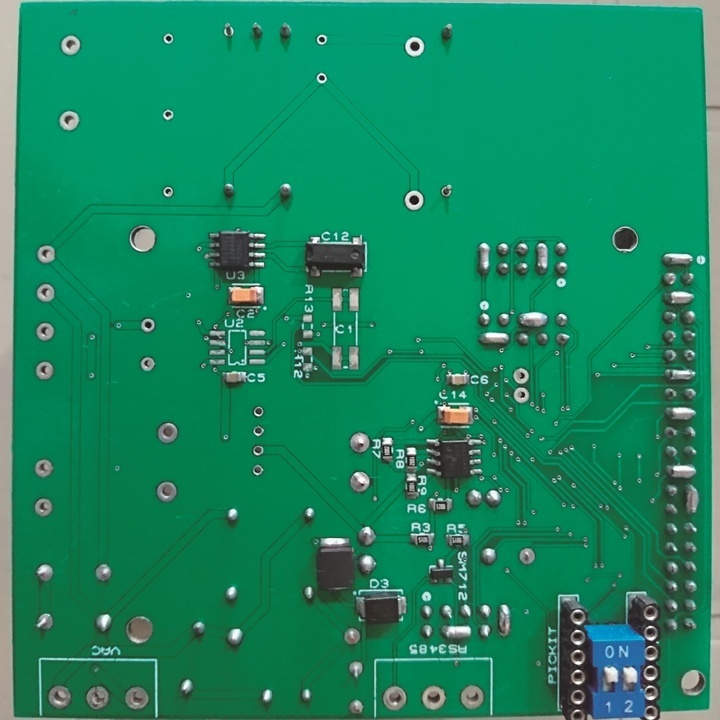F: (121, 682, 152, 714), (458, 682, 487, 713), (381, 682, 409, 713), (420, 684, 449, 713), (45, 682, 73, 711), (84, 683, 112, 710), (30, 610, 57, 637), (401, 187, 427, 213), (152, 478, 179, 503), (155, 419, 180, 445), (347, 429, 372, 455), (348, 468, 371, 495), (57, 107, 81, 132), (33, 240, 57, 265), (34, 280, 58, 305), (403, 34, 427, 58), (33, 319, 58, 342), (32, 456, 57, 479), (33, 561, 56, 585), (58, 34, 82, 56), (33, 357, 54, 381), (342, 625, 363, 649), (517, 544, 538, 568), (32, 496, 55, 517), (138, 352, 158, 374), (92, 561, 113, 581), (346, 658, 365, 680), (512, 364, 530, 386), (437, 179, 455, 199), (348, 697, 366, 717), (220, 19, 236, 41), (511, 386, 530, 404), (250, 402, 267, 420), (139, 317, 156, 334), (161, 183, 176, 201), (251, 422, 266, 440), (251, 441, 265, 460), (251, 462, 267, 478), (315, 31, 329, 49), (161, 32, 176, 46), (161, 107, 174, 122), (315, 70, 327, 86)
P: (516, 309, 551, 331), (439, 622, 473, 643), (476, 329, 511, 349), (533, 239, 551, 277), (683, 479, 700, 518), (495, 600, 512, 639), (664, 461, 697, 481), (661, 288, 697, 306), (662, 404, 698, 422), (661, 365, 699, 382), (476, 240, 493, 277), (661, 252, 694, 269)
